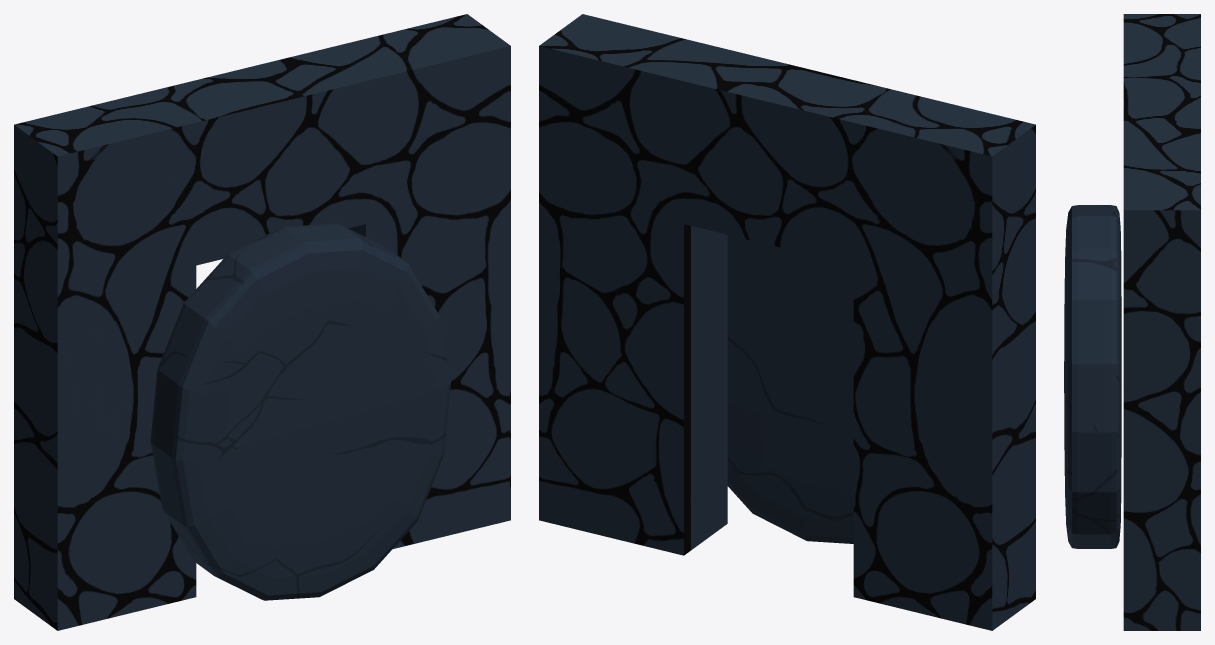
Rendered from Door.fbx.
The picture shows the model from 3 angles, left to right: view 1: azimuth 30°, elevation 25°; view 2: azimuth 150°, elevation 25°; view 3: azimuth 270°, elevation 25°; orthographic projection. The views are drawn at different scales.
Parts seen in each view (by area): view 1: Wall, Door; view 2: Wall, Door; view 3: Wall, Door.
Part boxes in pixels (x1=…): Wall: x1=14, y1=14, x2=510, y2=630; Door: x1=150, y1=223, x2=450, y2=600; Wall: x1=539, y1=14, x2=1035, y2=630; Door: x1=727, y1=235, x2=853, y2=543; Wall: x1=1123, y1=14, x2=1200, y2=630; Door: x1=1064, y1=205, x2=1121, y2=548.
Bounding box in the file's own units: 300 × 302 × 88.38.
Materials: 3 (3 with a texture image).
